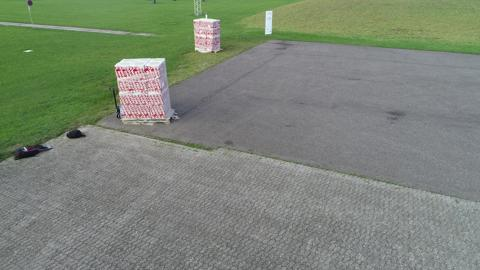RockwoolPallet: (192, 16, 222, 54)
